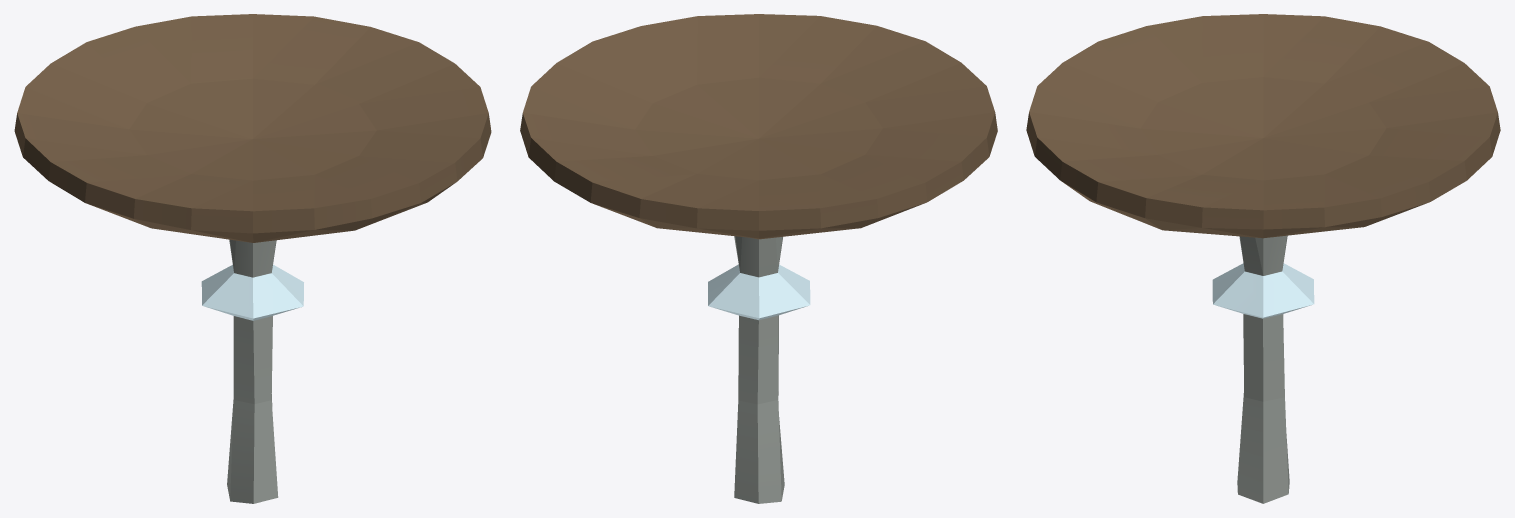
The model's file is Macrolepiota_1.fbx.
The picture shows the model from 3 angles, left to right: view 1: azimuth 30°, elevation 25°; view 2: azimuth 150°, elevation 25°; view 3: azimuth 270°, elevation 25°; orthographic projection.
Visible parts, largest first — view 1: Group13457; view 2: Group13457; view 3: Group13457.
Part boxes in pixels (x1,y1,x2,y2): Group13457: (14, 14, 491, 503); Group13457: (520, 14, 997, 503); Group13457: (1026, 14, 1500, 503).
Size of the model in its own units: 74.03 by 66.38 by 74.76.
